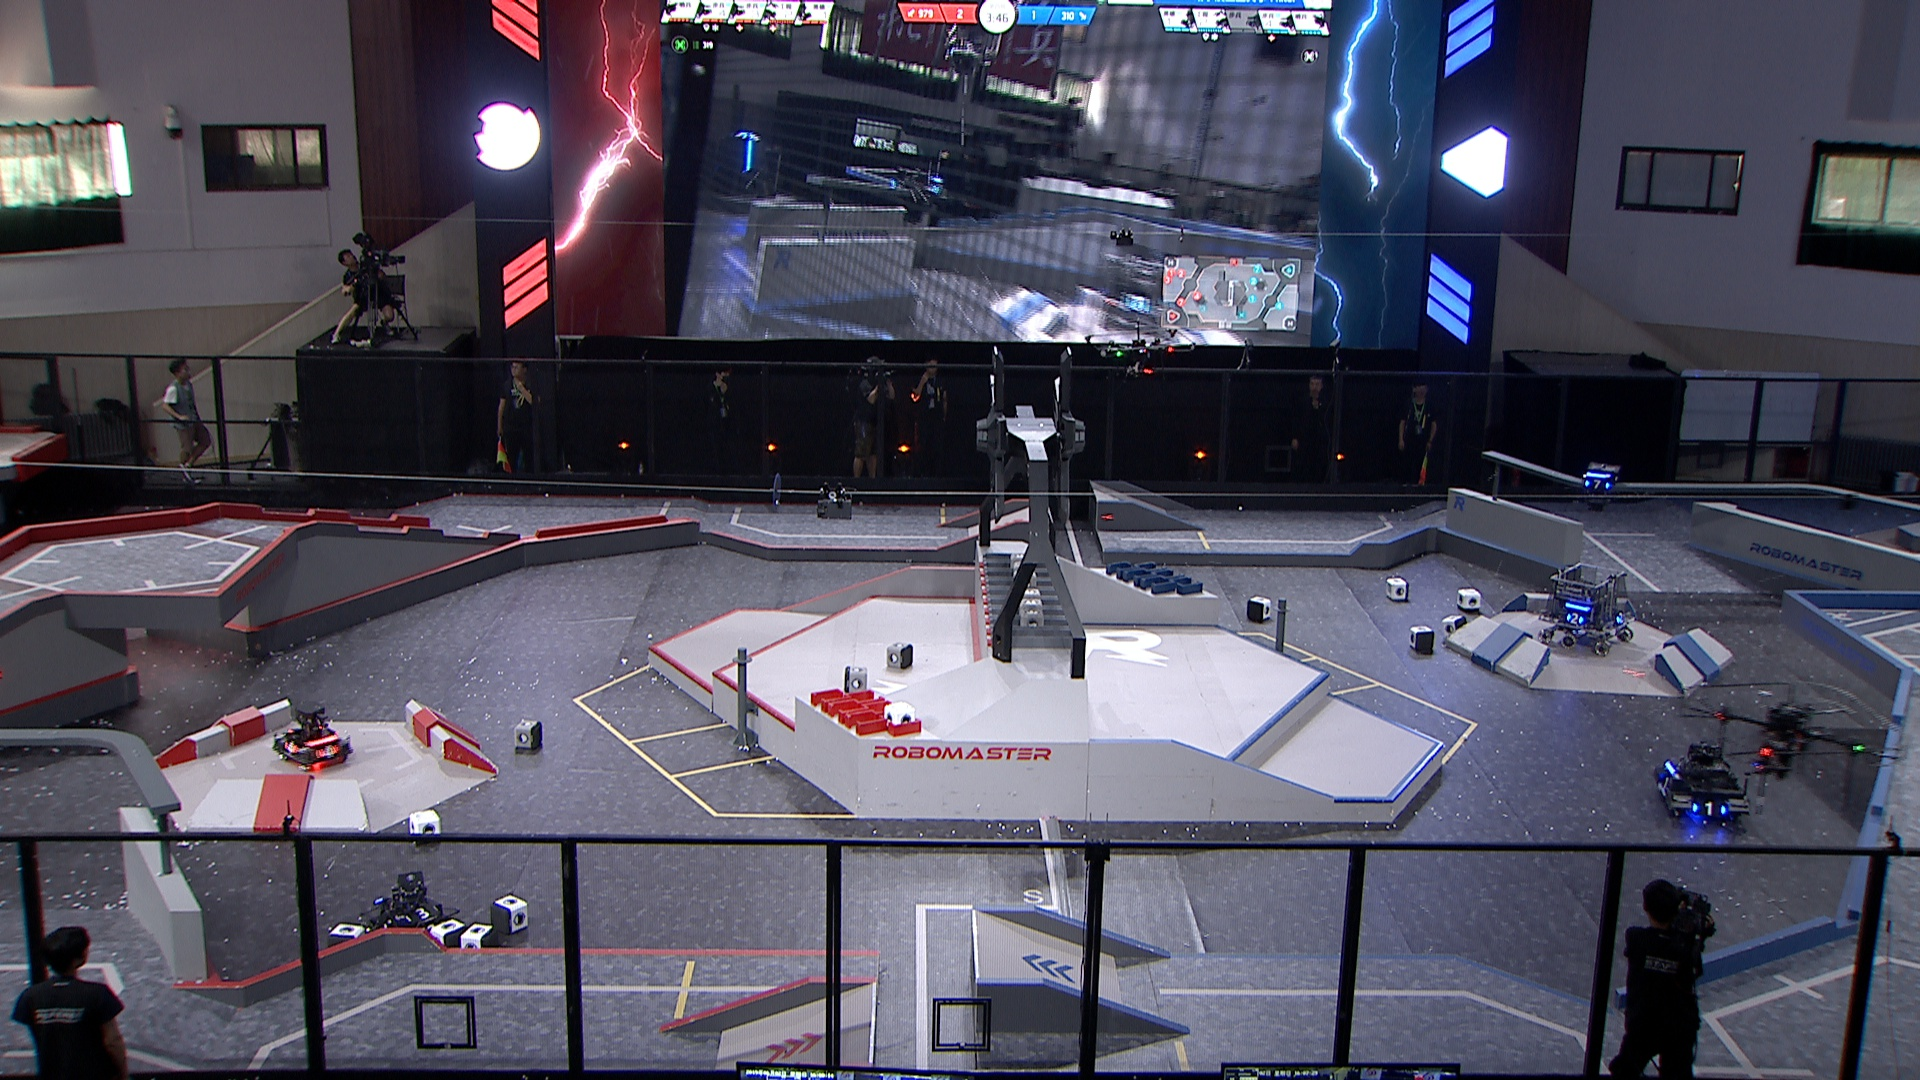armor: (407, 901, 439, 924), (1695, 799, 1727, 815), (314, 740, 340, 760), (1656, 773, 1673, 796), (1565, 613, 1582, 626), (1588, 480, 1609, 491), (285, 741, 301, 754), (1613, 612, 1626, 624)
car: (1534, 560, 1640, 659), (1651, 738, 1753, 823), (363, 873, 462, 940), (272, 698, 353, 766)
ignore: (709, 131, 770, 186)
watcher: (1580, 458, 1627, 513)
